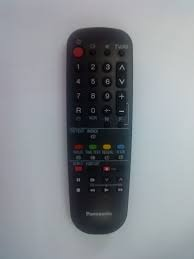remote control: (64, 20, 133, 241)
